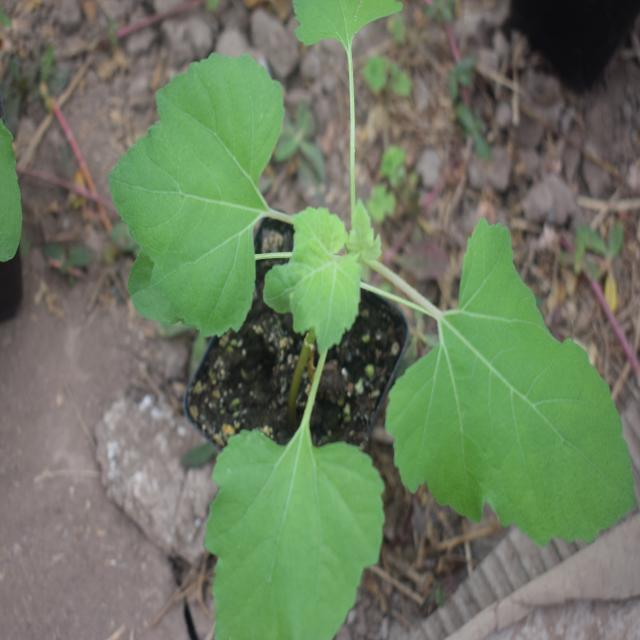cocklebur: (113, 14, 627, 612)
